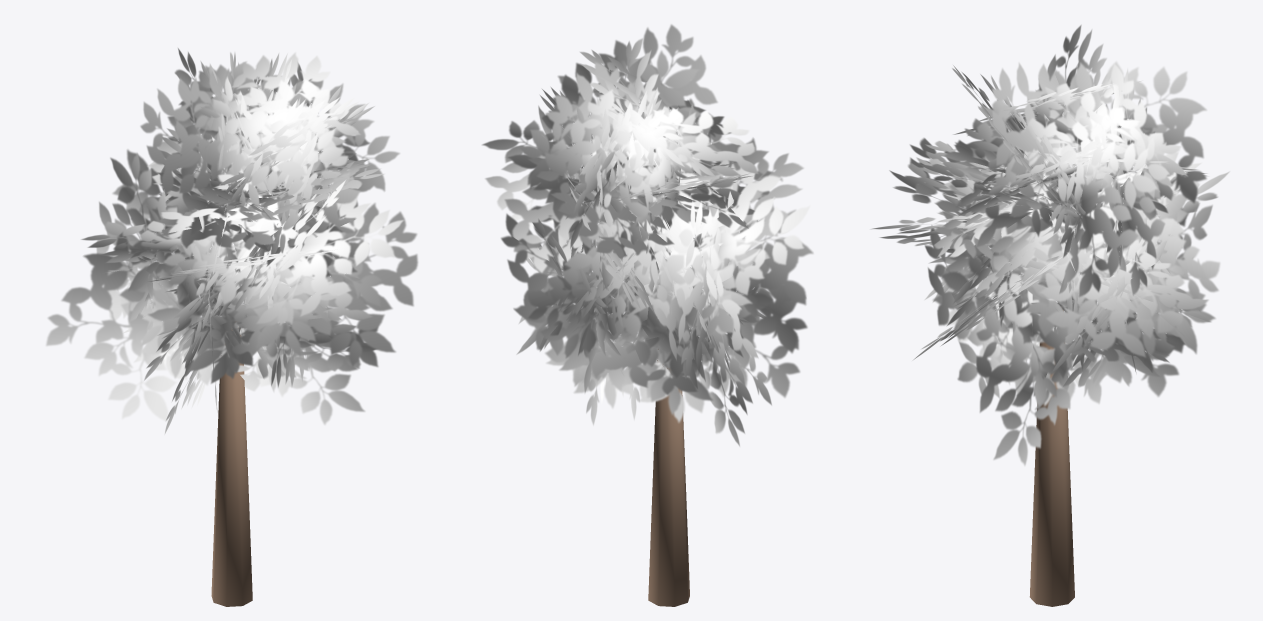
Rendered from tree_stylized_2.glb.
The picture shows the model from 3 angles, left to right: view 1: azimuth 30°, elevation 25°; view 2: azimuth 150°, elevation 25°; view 3: azimuth 270°, elevation 25°; orthographic projection. The views are drawn at different scales.
Visible parts, largest first — view 1: CanopyA, CanopyB, Cone; view 2: CanopyA, CanopyB, Cone; view 3: CanopyA, CanopyB, Cone.
Part boxes in pixels (x1,y1,x2,y2): CanopyA: (46, 127, 418, 434); CanopyB: (140, 48, 400, 282); Cone: (211, 329, 252, 606); CanopyA: (501, 98, 813, 446); CanopyB: (482, 24, 758, 273); Cone: (648, 349, 689, 606); CanopyA: (871, 104, 1229, 465); CanopyB: (919, 25, 1206, 303); Cone: (1029, 310, 1074, 606).
Size of the model in its own units: 4.55 by 6.66 by 4.09.
Materials: 2 (1 with a texture image).
